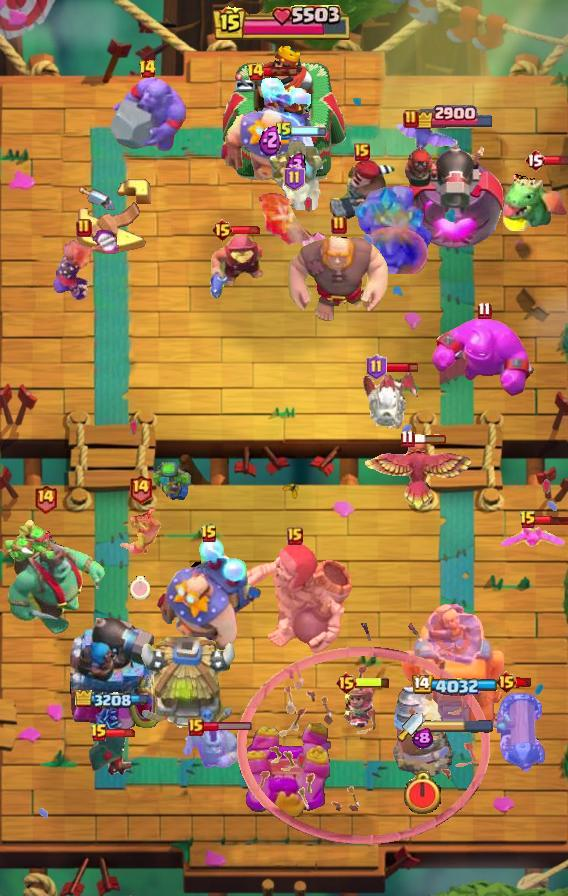archer-queen: (108, 74, 186, 154)
balloon: (285, 233, 393, 325)
bar: (398, 595, 508, 731)
barbarian: (498, 524, 568, 552), (392, 122, 456, 152)
battle-healer: (497, 687, 545, 777)
bomber-evolution: (342, 682, 379, 730)
cannoneer-tower: (346, 184, 436, 274)
clock: (213, 5, 355, 43)
clone: (430, 316, 538, 398)
electro-giant: (234, 543, 356, 655)
electro-spirit: (259, 124, 281, 156), (285, 153, 307, 180), (412, 728, 433, 749)
electro-wizard: (500, 161, 568, 231)
elixir: (402, 772, 443, 817), (130, 576, 150, 600)
emote: (202, 721, 253, 732), (355, 676, 391, 689), (385, 361, 420, 374), (412, 433, 448, 445), (291, 126, 327, 137), (263, 66, 298, 77), (536, 514, 568, 525), (231, 225, 263, 235), (106, 728, 138, 738), (544, 154, 568, 166), (515, 677, 532, 688)
fireball: (209, 233, 271, 301)
flying-machine: (181, 723, 241, 777)
giant-snowball: (153, 462, 195, 502)
golden-knight: (361, 436, 473, 514)
hog-rider: (258, 190, 330, 258)
inferno-dragon: (267, 134, 325, 210)
king-tower: (223, 43, 345, 181)
king-tower-bar: (423, 720, 493, 734)
lava-hound: (0, 518, 106, 636)
little-prince: (155, 536, 263, 670), (217, 71, 323, 199)
magic-archer: (392, 686, 452, 778)
mini-pekka: (360, 369, 418, 431)
phoenix-small: (327, 157, 397, 225)
prince: (136, 637, 238, 733)
selected: (413, 103, 496, 129), (411, 675, 498, 697), (74, 689, 154, 711)
skeleton-barrel: (237, 622, 491, 845)
tesla: (88, 729, 134, 777)
tesla-evolution: (49, 228, 118, 302)
text: (128, 473, 153, 504), (34, 483, 59, 514), (210, 218, 233, 242), (494, 670, 517, 694), (335, 671, 358, 695), (284, 165, 305, 191), (366, 354, 387, 380), (524, 148, 546, 172), (138, 59, 157, 79), (246, 62, 265, 82), (275, 121, 293, 141), (519, 510, 537, 530), (200, 524, 218, 544), (90, 723, 108, 743), (403, 109, 419, 129), (331, 215, 347, 235), (76, 218, 92, 238), (354, 143, 370, 161), (287, 527, 303, 545), (188, 718, 204, 736), (477, 301, 492, 319), (401, 428, 415, 447)
tower-bar: (401, 132, 508, 256), (68, 611, 160, 731)
zap: (119, 509, 162, 555)
